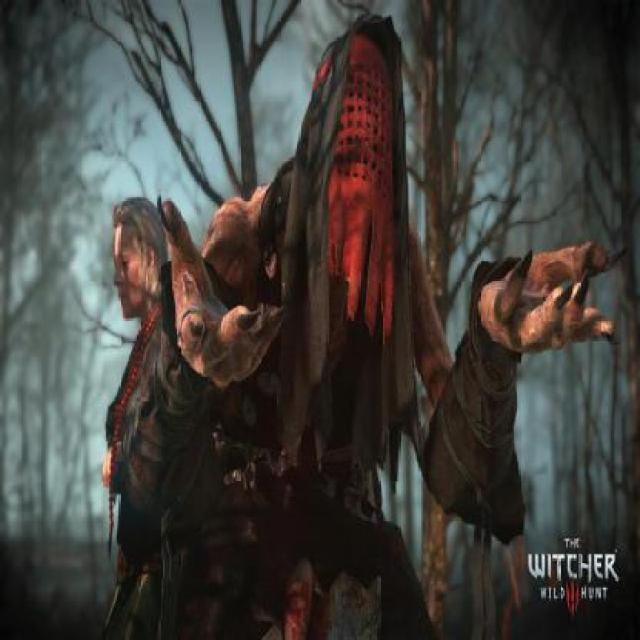obstacle: (170, 43, 525, 639), (100, 192, 188, 639)
